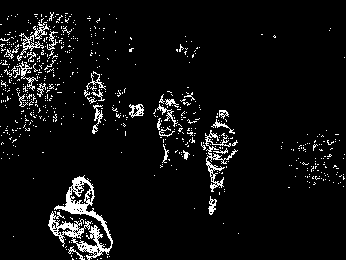person: (46, 175, 112, 260), (202, 107, 238, 216), (151, 90, 181, 166), (177, 84, 201, 162), (83, 69, 106, 135)
